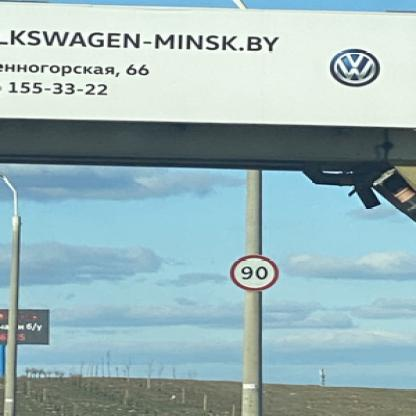speedlimit: (228, 254, 278, 290)
